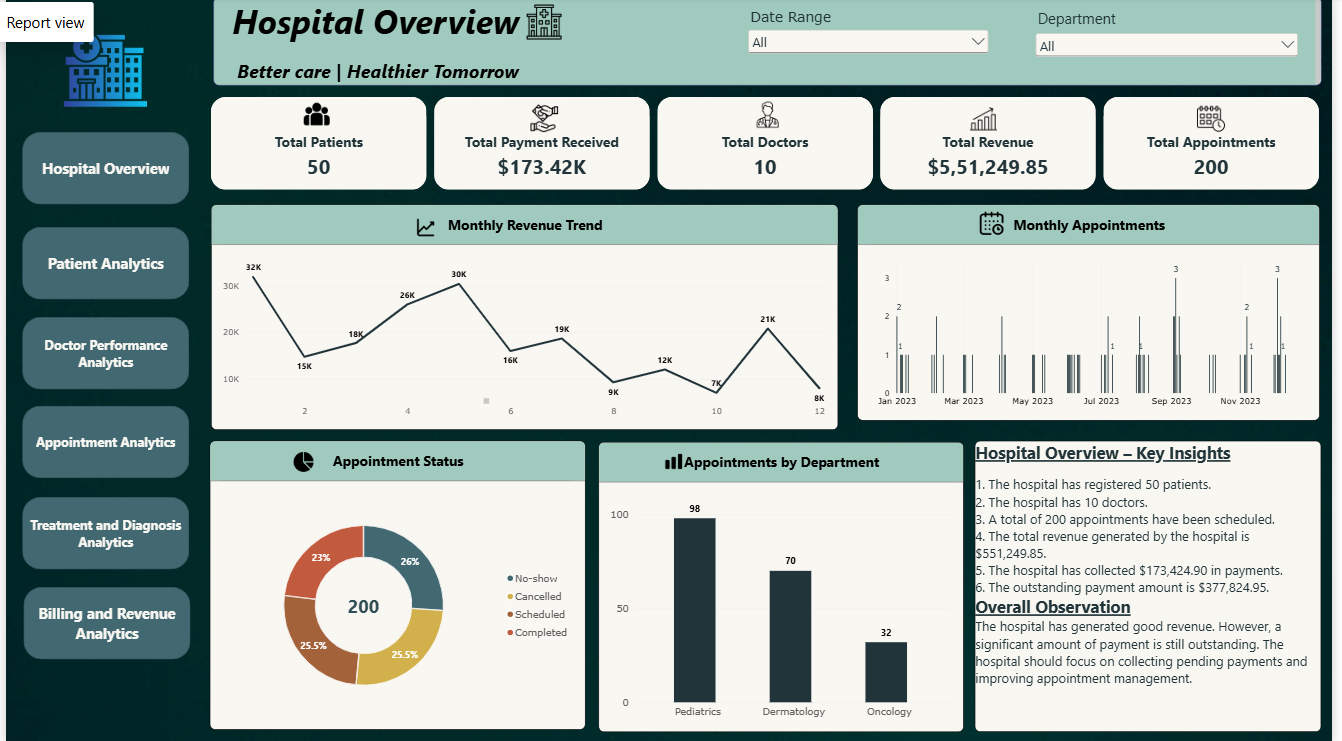

This screenshot's page, from the dashboard's own definition file:
{"tool":"powerbi","page":{"name":"Hospital overview","canvas":[1920,1080],"ordinal":0},"visuals":[{"type":"textbox","box":[300,0,1604,128],"z":0},{"type":"cardVisual","fields":{"Data":["appointments.Total Patients","appointments.Total Payment Received","appointments.Total Doctors","appointments.Total Revenue","appointments.Total Appointments"]},"box":[296,144,1608,134],"z":1000},{"type":"lineChart","title":"Monthly Revenue Trend","fields":{"Category":["billing.bill_date.Variation.Date Hierarchy.Day"],"Y":["Sum(billing.amount)"]},"box":[296.7,300,908,326.7],"z":2000},{"type":"clusteredColumnChart","title":"Appointments by Department","fields":{"Category":["doctors.specialization"],"Y":["CountNonNull(appointments.appointment_id)"]},"box":[857.8,644.2,528.4,419.8],"z":3000},{"type":"donutChart","title":"Appointment Status","fields":{"Category":["appointments.status"],"Y":["CountNonNull(appointments.appointment_id)"]},"box":[295,641.7,543.7,418.3],"z":4000},{"type":"slicer","fields":{"Values":["doctors.specialization"]},"box":[1486,16,390,78],"z":5000},{"type":"slicer","fields":{"Values":["appointments.appointment_date"]},"box":[1070,16,358,94],"z":6000},{"type":"textbox","box":[686.7,580,13.3,8.3],"z":7000},{"type":"textbox","box":[1401.7,643.3,501.7,421.7],"z":8000},{"type":"clusteredColumnChart","title":"Monthly Appointments","fields":{"Category":["appointments.appointment_date"],"Y":["CountNonNull(appointments.appointment_id)"]},"box":[1232.4,300.4,669.6,313.1],"z":9000},{"type":"image","box":[586,318,42,30],"z":10000},{"type":"image","box":[948,659.2,36.4,27.2],"z":11000},{"type":"image","box":[410,658,40,28.8],"z":12000},{"type":"image","box":[1410,301.2,34,54],"z":13000},{"type":"shape","box":[23.5,195.4,241.8,104.8],"z":14000},{"type":"shape","box":[23.5,333,241.8,104.8],"z":15000},{"type":"shape","box":[23.5,463.3,241.8,104.8],"z":16000},{"type":"shape","box":[23.5,591.8,241.8,104.8],"z":17000},{"type":"shape","box":[23.5,723.9,241.8,104.8],"z":18000},{"type":"image","box":[751,9,56.1,54.3],"z":19000},{"type":"image","box":[76,41.6,135.7,128.5],"z":20000},{"type":"shape","box":[25.3,854.2,241.8,104.8],"z":21000},{"type":"image","box":[419.8,150.2,59.7,38],"z":22000},{"type":"image","box":[732.9,155.6,92.3,39.8],"z":23000},{"type":"image","box":[1073.1,150.2,59.7,39.8],"z":24000},{"type":"image","box":[1386.2,155.6,57.9,41.6],"z":25000},{"type":"image","box":[1722.8,133.9,43.4,85.1],"z":26000}]}

Visuals, with their boxes on the page's 1920x1080 design canvas (x1, y1, x2, y2). These are canvas units, not pixel positions in the 1342x741 screenshot, which may show the page scaled, cropped or inside an application window:
textbox: box=[300, 0, 1904, 128]
cardVisual - appointments.Total Patients x appointments.Total Payment Received: box=[296, 144, 1904, 278]
"Monthly Revenue Trend" lineChart: box=[297, 300, 1205, 627]
"Appointments by Department" clusteredColumnChart: box=[858, 644, 1386, 1064]
"Appointment Status" donutChart: box=[295, 642, 839, 1060]
slicer - doctors.specialization: box=[1486, 16, 1876, 94]
slicer - appointments.appointment_date: box=[1070, 16, 1428, 110]
textbox: box=[687, 580, 700, 588]
textbox: box=[1402, 643, 1903, 1065]
"Monthly Appointments" clusteredColumnChart: box=[1232, 300, 1902, 614]
image: box=[586, 318, 628, 348]
image: box=[948, 659, 984, 686]
image: box=[410, 658, 450, 687]
image: box=[1410, 301, 1444, 355]
shape: box=[24, 195, 265, 300]
shape: box=[24, 333, 265, 438]
shape: box=[24, 463, 265, 568]
shape: box=[24, 592, 265, 697]
shape: box=[24, 724, 265, 829]
image: box=[751, 9, 807, 63]
image: box=[76, 42, 212, 170]
shape: box=[25, 854, 267, 959]
image: box=[420, 150, 480, 188]
image: box=[733, 156, 825, 195]
image: box=[1073, 150, 1133, 190]
image: box=[1386, 156, 1444, 197]
image: box=[1723, 134, 1766, 219]
